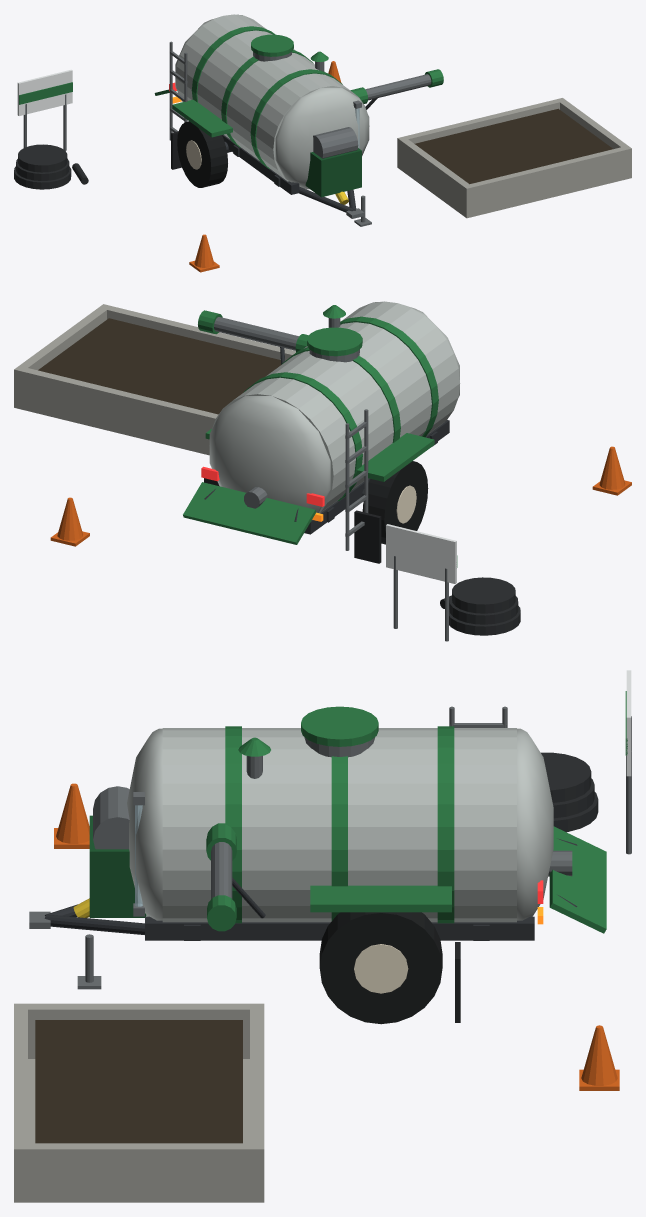
File: slurry_tanker.glb
The picture shows the model from 3 angles, top to bottom: view 1: azimuth 30°, elevation 25°; view 2: azimuth 150°, elevation 25°; view 3: azimuth 270°, elevation 25°; orthographic projection. The views are drawn at different scales.
Visible parts, largest first — view 1: TankerBody, FieldProps, FillingArm; view 2: TankerBody, FieldProps, RearDistributor, FillingArm; view 3: TankerBody, FieldProps, RearDistributor, FillingArm.
Part boxes in pixels (<box>): TankerBody: <box>169,14,371,226</box>; FieldProps: <box>14,61,631,272</box>; FillingArm: <box>350,69,443,109</box>; TankerBody: <box>201,301,460,563</box>; FieldProps: <box>14,304,631,641</box>; RearDistributor: <box>183,482,316,544</box>; FillingArm: <box>198,310,308,364</box>; TankerBody: <box>29,706,553,1024</box>; FieldProps: <box>14,670,631,1202</box>; RearDistributor: <box>548,826,606,933</box>; FillingArm: <box>206,823,265,931</box>.
Size of the model in its own units: 8.25 by 2.31 by 5.23.
